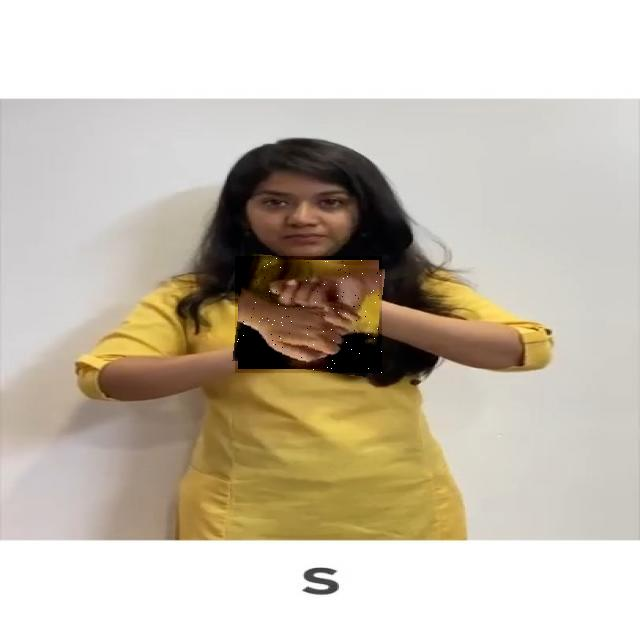S: (235, 256, 382, 373)
